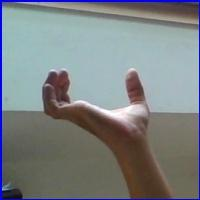B: (33, 63, 161, 150)
